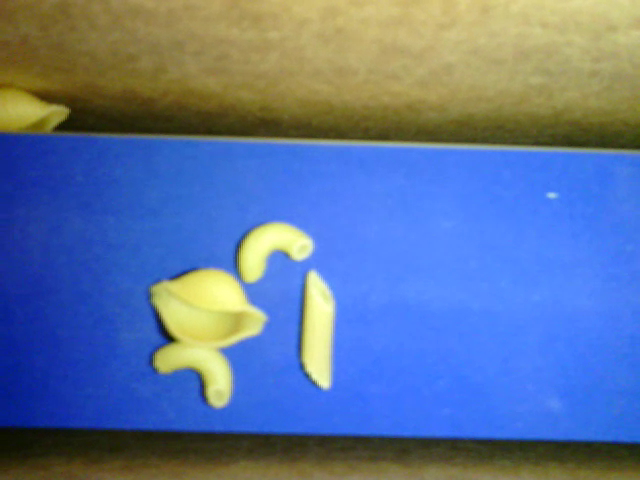elbow: (150, 340, 234, 409), (235, 221, 315, 281)
penne: (297, 264, 338, 391)
shell: (145, 264, 269, 353), (1, 88, 71, 129)
